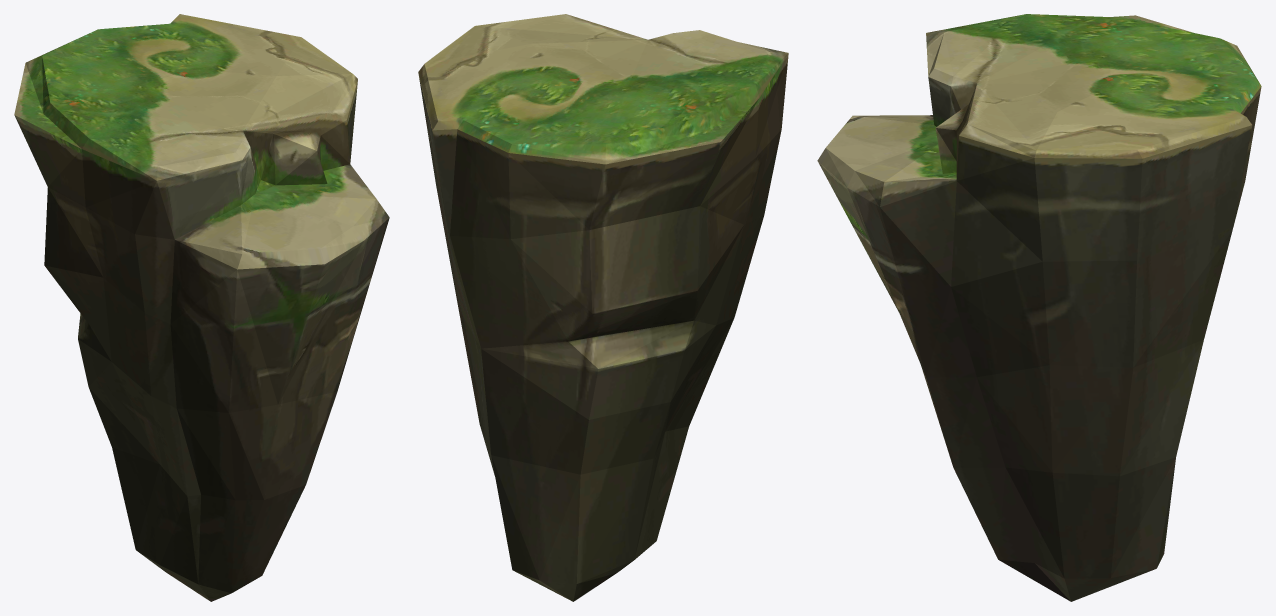
File: TKZC_ShiTou_03.fbx
The picture shows the model from 3 angles, left to right: view 1: azimuth 30°, elevation 25°; view 2: azimuth 150°, elevation 25°; view 3: azimuth 270°, elevation 25°; orthographic projection. The views are drawn at different scales.
Parts seen in each view (by area): view 1: TKZC_ShiTou_03; view 2: TKZC_ShiTou_03; view 3: TKZC_ShiTou_03.
Part boxes in pixels (left/top/right/bottom): TKZC_ShiTou_03: left=14, top=14, right=389, bottom=601; TKZC_ShiTou_03: left=418, top=14, right=788, bottom=601; TKZC_ShiTou_03: left=817, top=14, right=1261, bottom=601.
Size of the model in its own units: 8.45 by 14.21 by 11.03.
